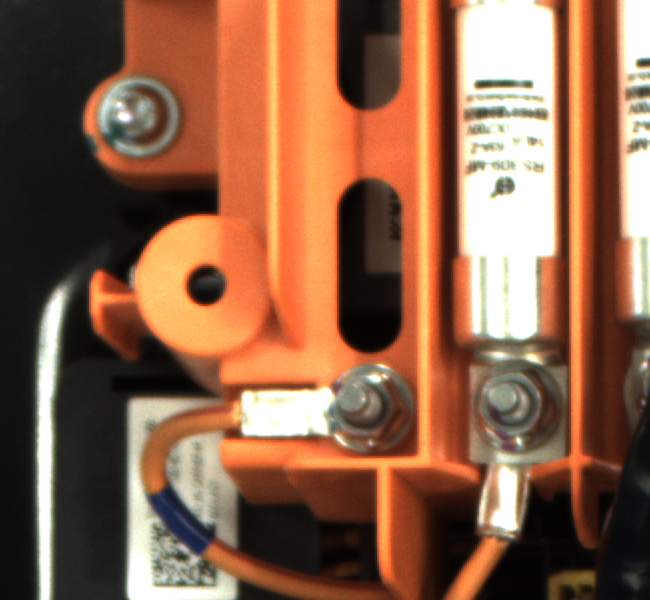screw_m: (88, 67, 194, 173)
screw_s: (466, 361, 570, 454), (319, 365, 419, 454)
